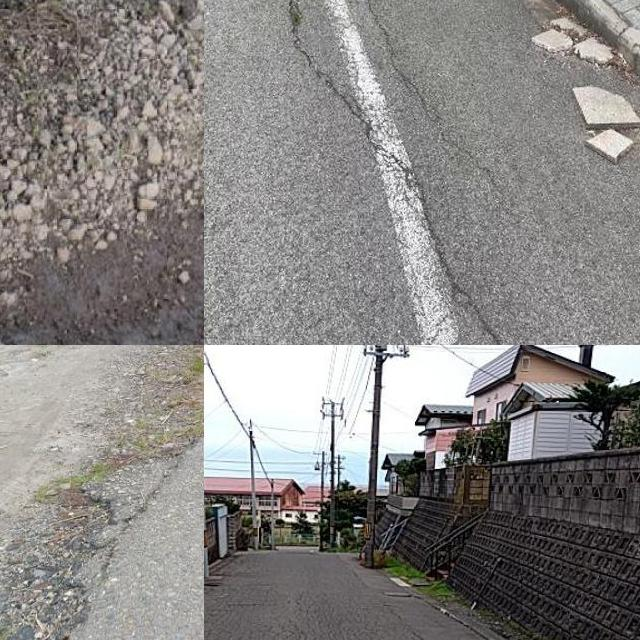Memanjang: (267, 0, 512, 345)
Pinggir: (51, 396, 204, 640), (0, 195, 204, 345)
